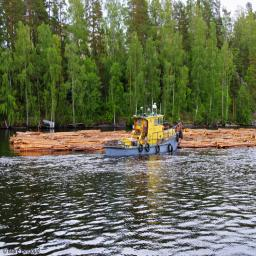tugboat: (103, 96, 185, 165)
